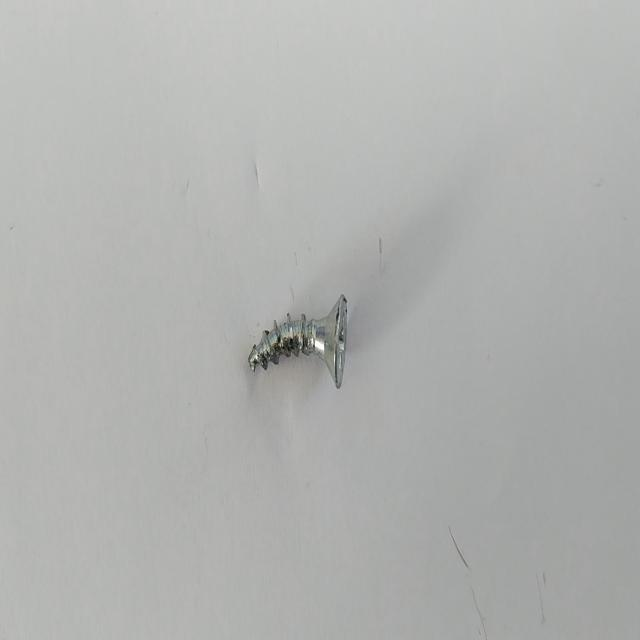Screw: (248, 294, 347, 388)
